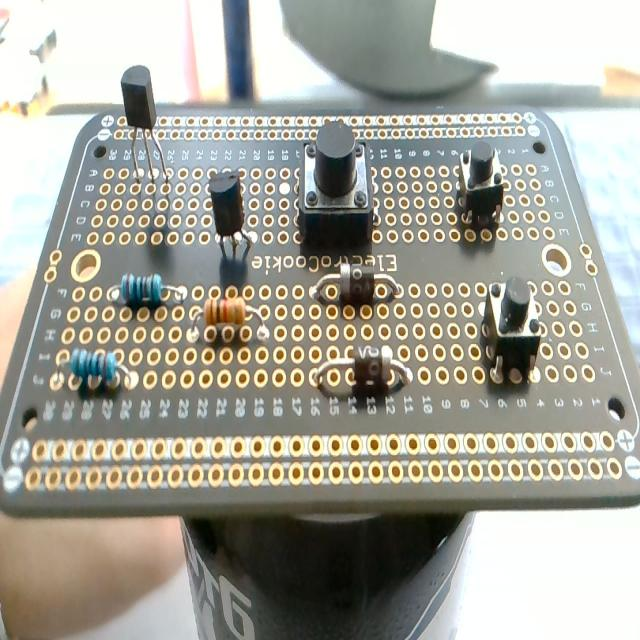diode: (316, 345, 413, 399), (313, 259, 403, 307)
resistor: (191, 288, 267, 344), (110, 270, 186, 306), (70, 347, 120, 386)
switch: (298, 123, 378, 250), (482, 274, 542, 383), (456, 140, 504, 228)
transistor: (119, 64, 171, 188), (206, 166, 257, 257)
